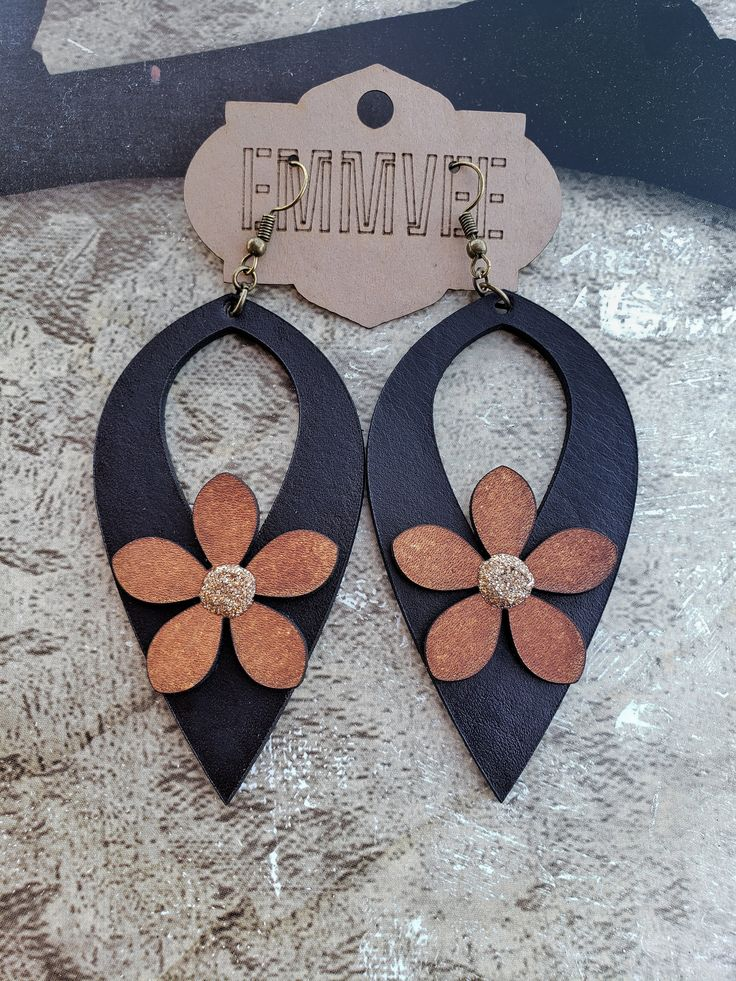cuero: (91, 281, 640, 807)
